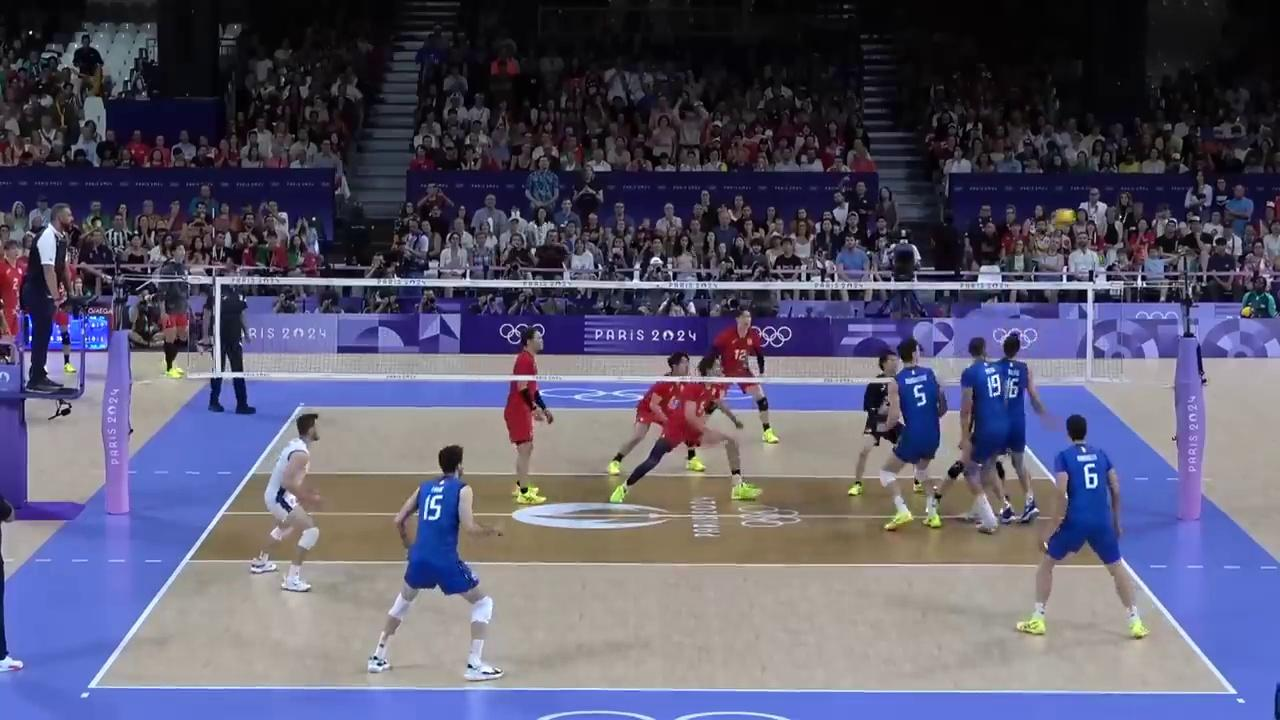ball: (1056, 208, 1073, 228)
